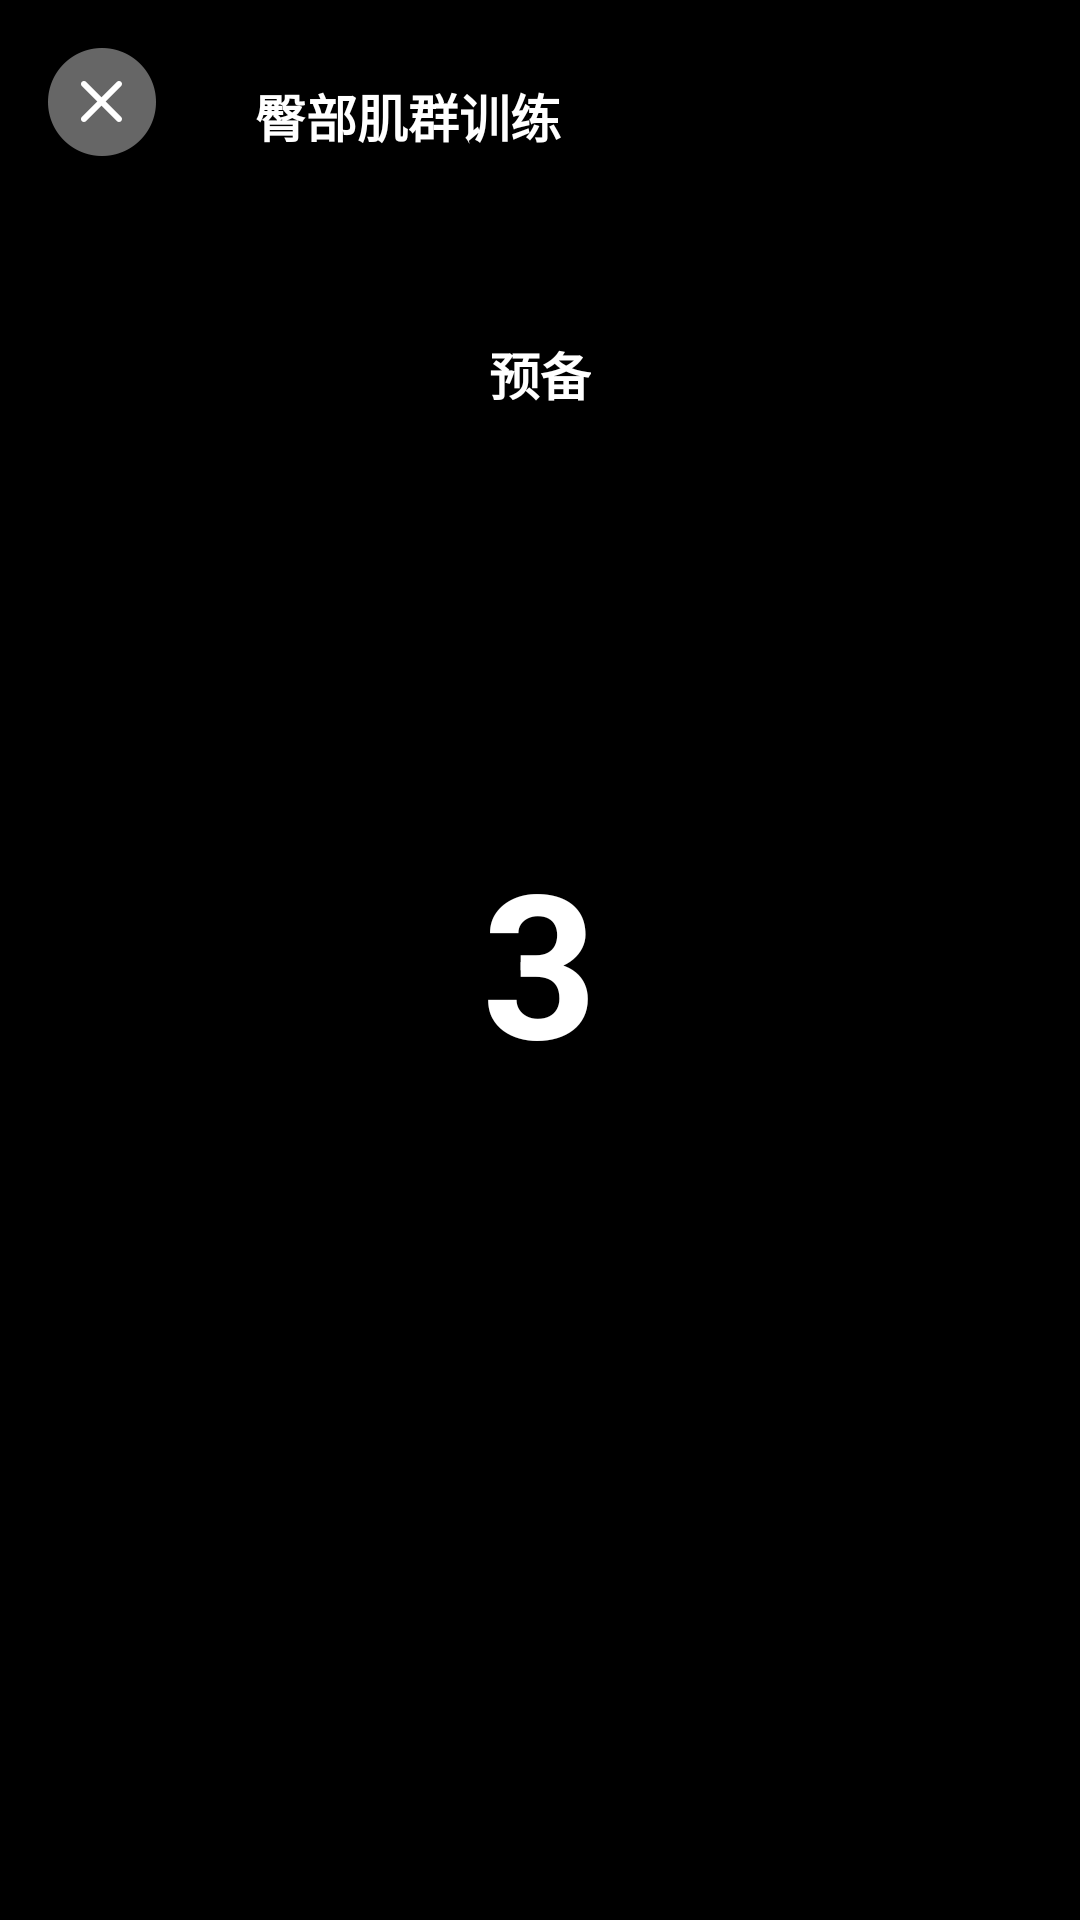

Where icons sit on this 1080px×1920px app screen, as (x1, y1, x2, y2):
countdown close: (48, 48, 156, 156)
